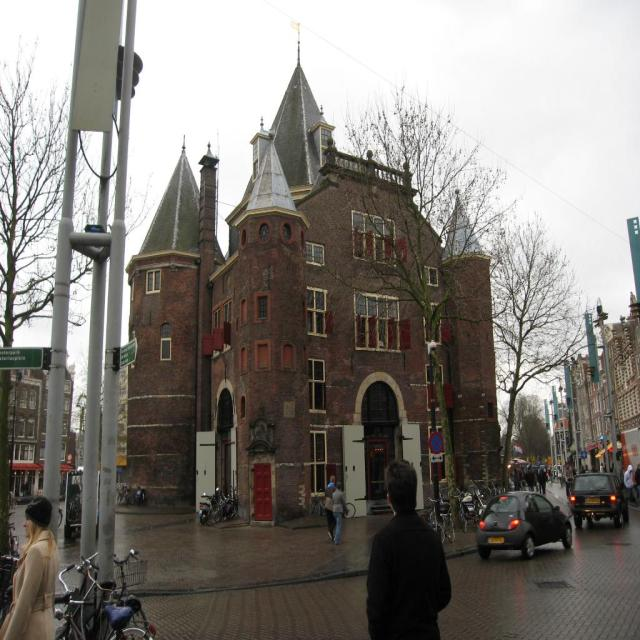car: (476, 491, 574, 561), (570, 473, 633, 528)
